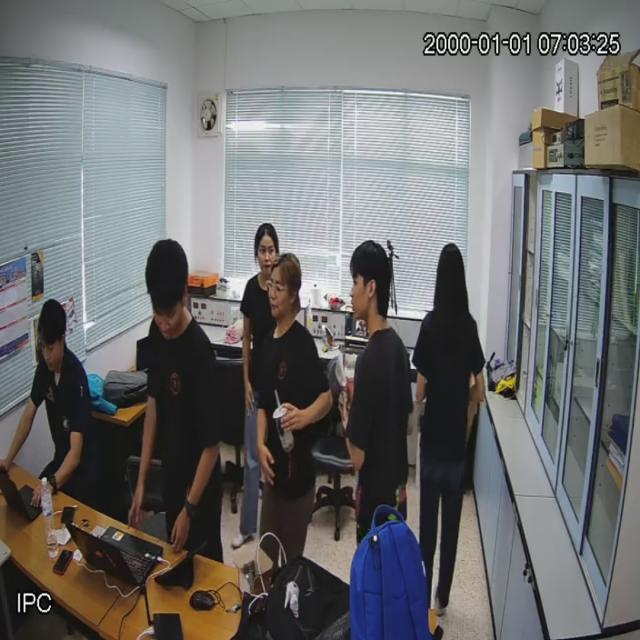normal: (129, 237, 226, 562), (417, 244, 482, 616), (261, 258, 329, 558), (346, 243, 414, 542), (9, 297, 99, 504), (232, 226, 278, 544)
